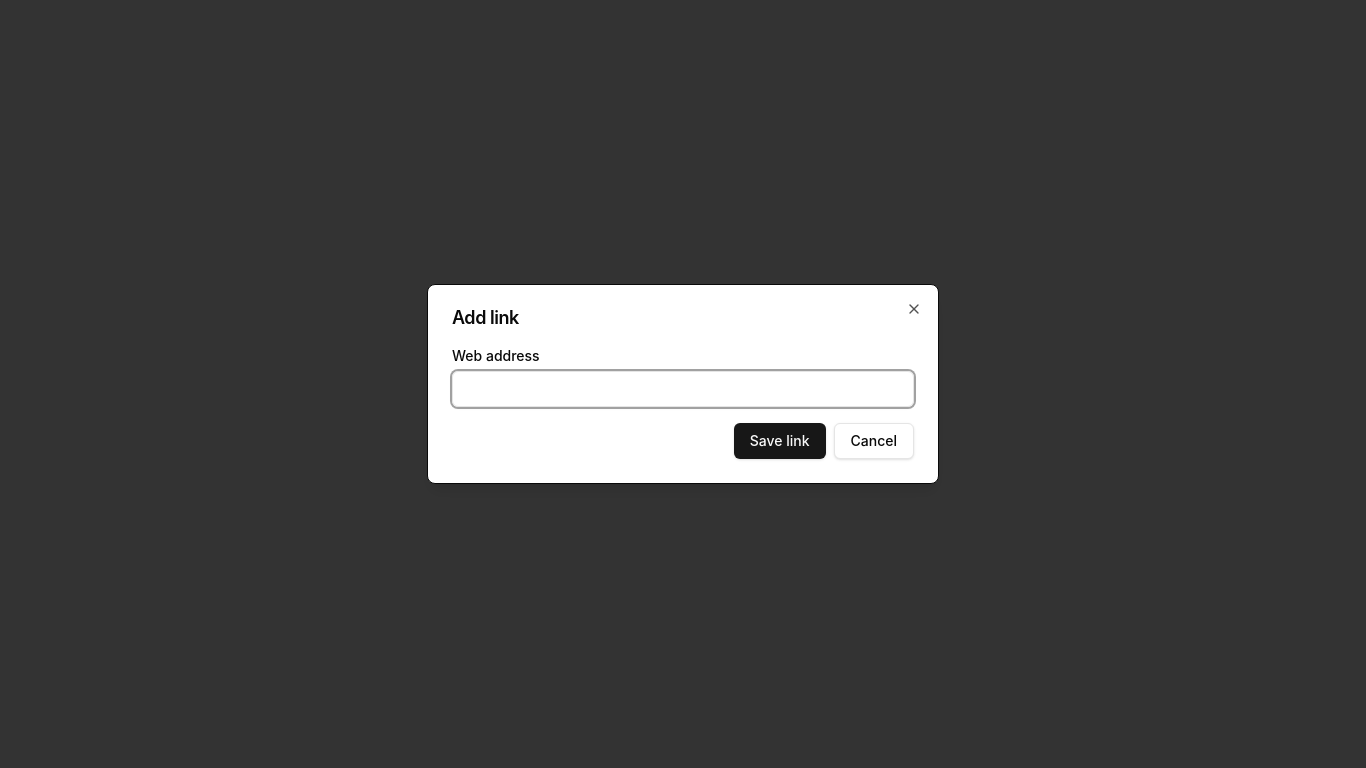
Scenario: RichTextLinkDialog › refuses javascript:alert(1) with the message and keeps focus on the field
Type "javascript:alert(1)" into the field labelled "Web address" at x=683, y=389, box [452,371,914,407]
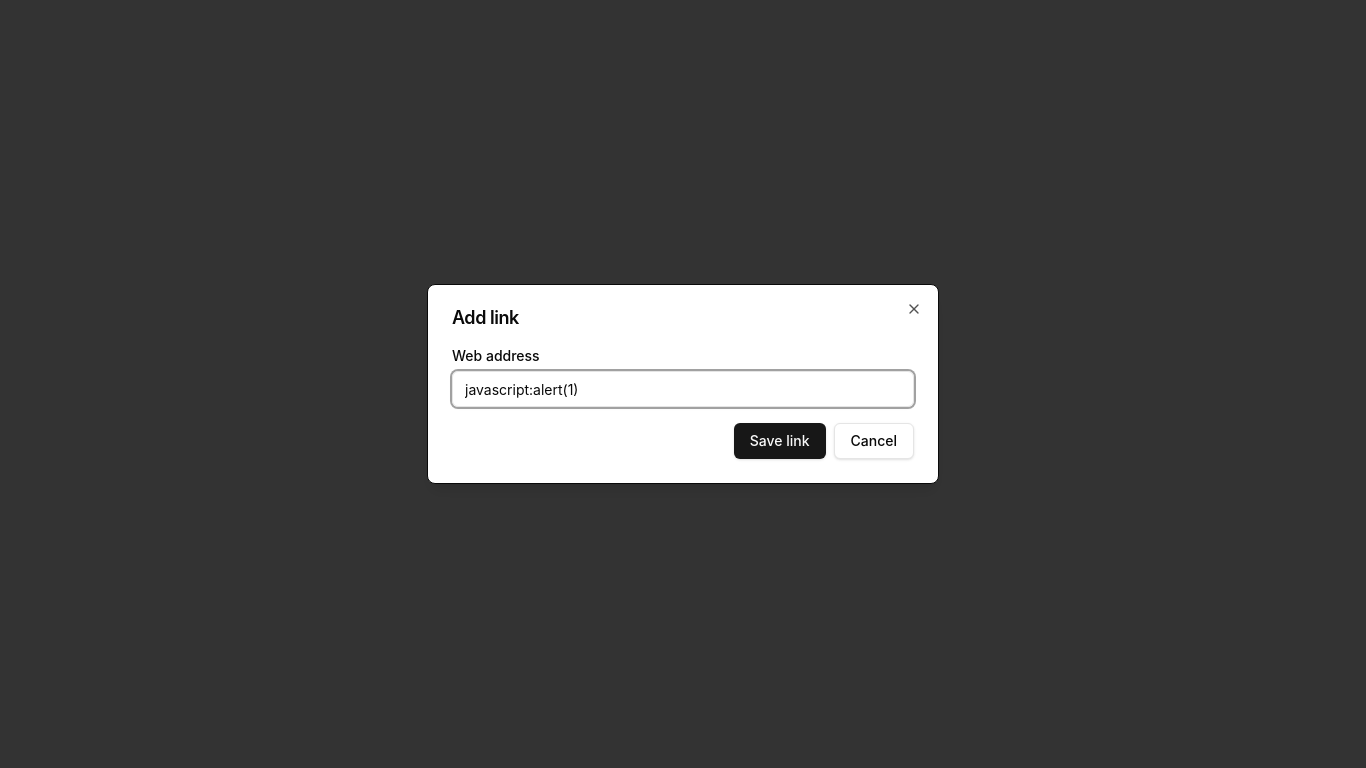
Click the button "Save link" at x=780, y=441, box [734,423,826,459]
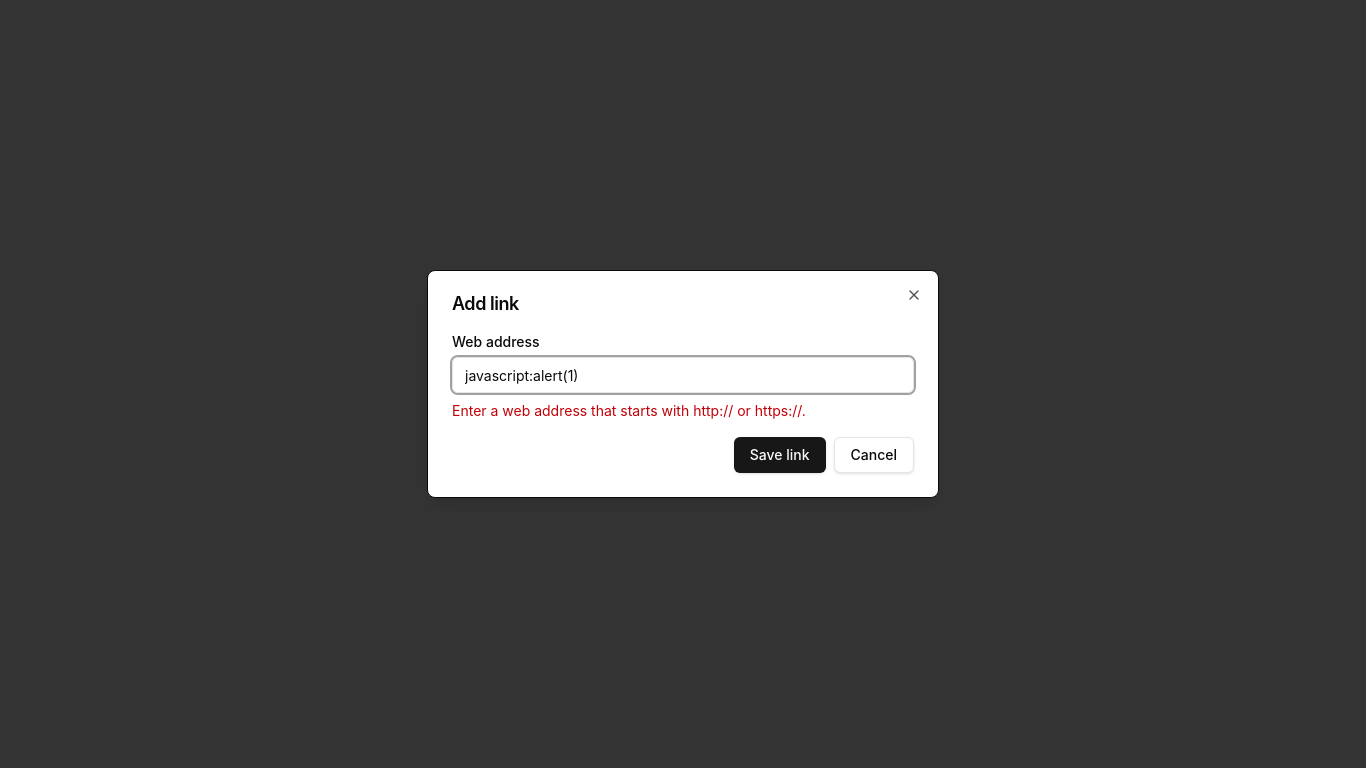
Now the text "Enter a web address that starts with http:// or https://." is shown, box [452,402,806,419]
